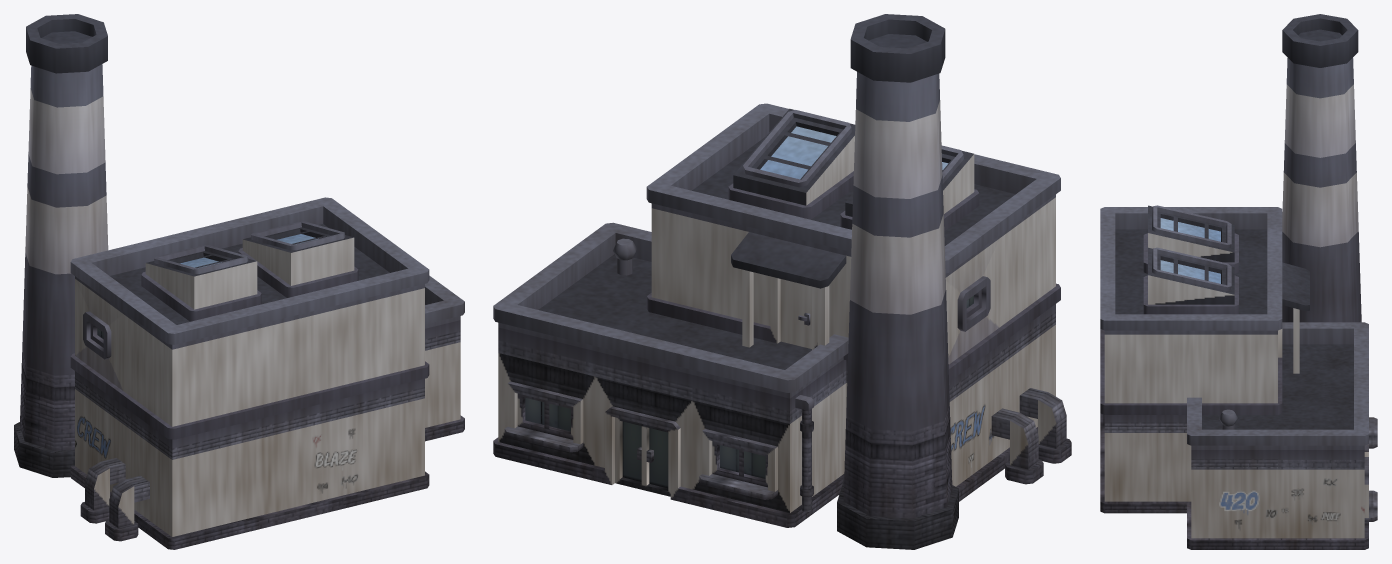
File: building-f-white-scuffed.glb
3 renders of one model, left to right at view 1: azimuth 30°, elevation 25°; view 2: azimuth 150°, elevation 25°; view 3: azimuth 270°, elevation 25°, orthographic. The views are drawn at different scales.
Parts seen in each view (by area): view 1: building-f; view 2: building-f; view 3: building-f.
Boxes of the visible parts, x1,y1,x2,y2 form: building-f: (14, 14, 464, 549); building-f: (493, 14, 1071, 549); building-f: (1100, 14, 1377, 549).
Bounding box in the file's own units: 1.79 × 1.92 × 1.28.
1 material, 1 textured.
